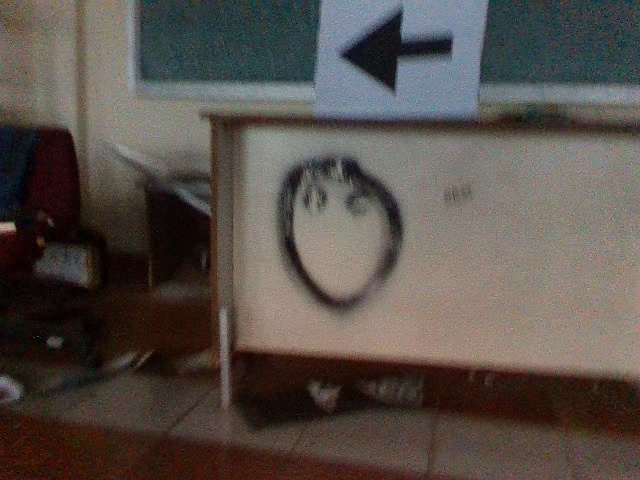Left: (331, 1, 463, 99)
